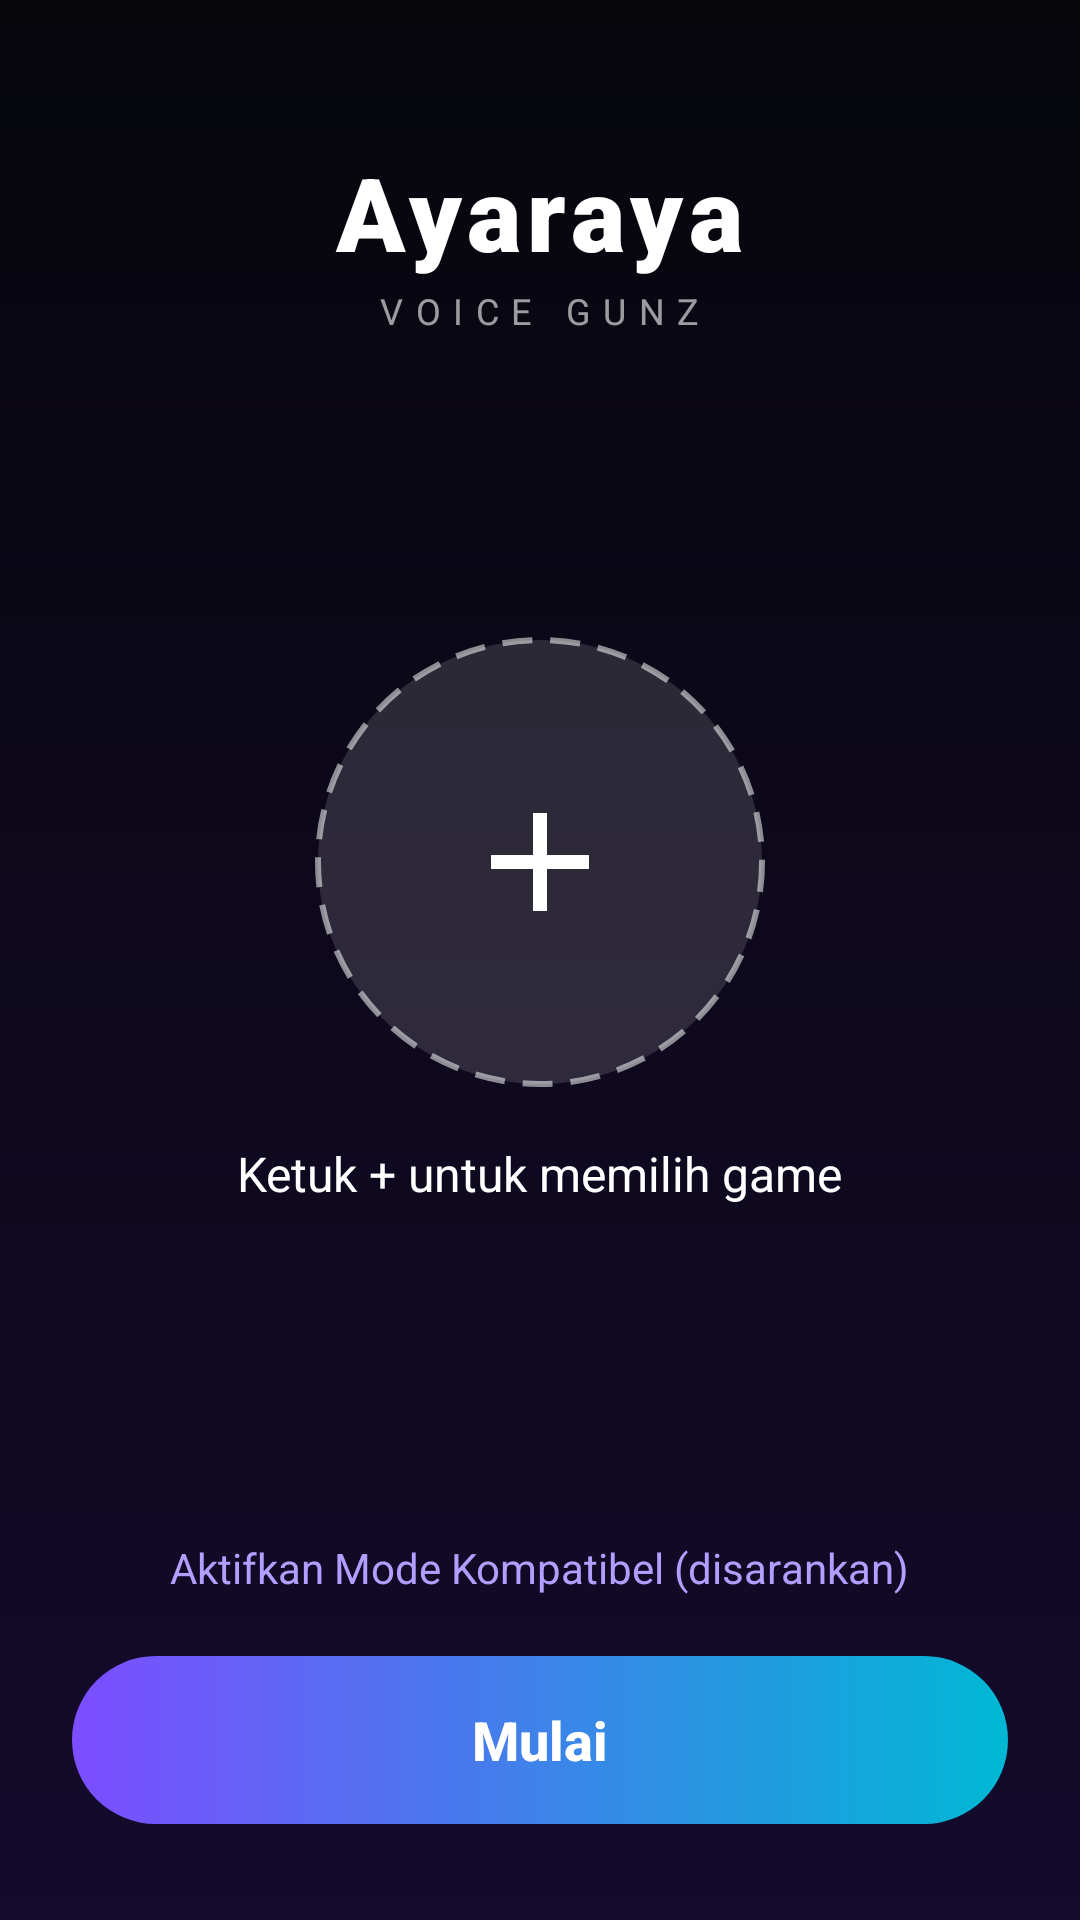

Where to tap for icons on this 1080x1920 app screen, as point (x, y):
plus: point (540, 862)
